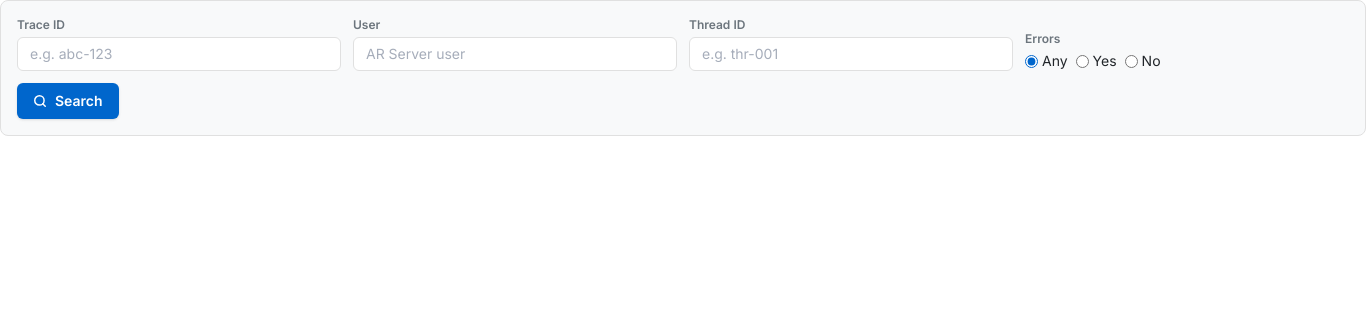
Scenario: TraceSearch › renders a result row for each transaction
Click the button "Search": (68, 101) [17,83,118,119]
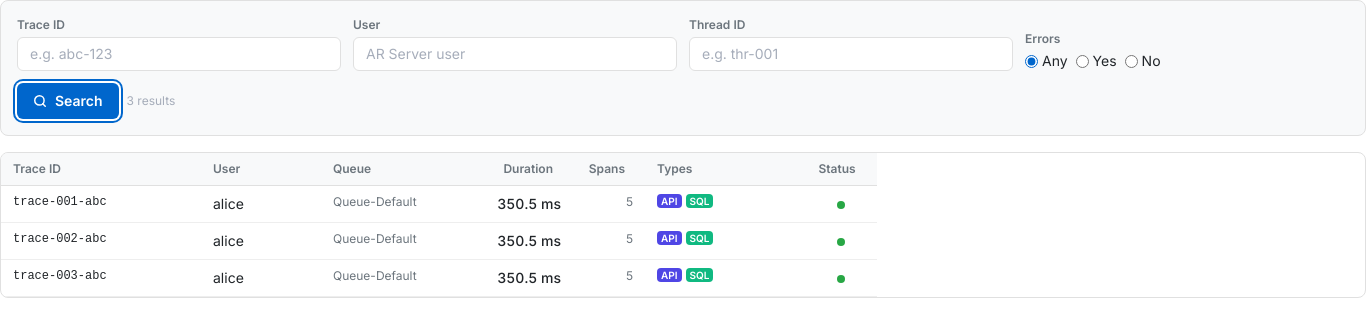
Expected: the number of rows is 4, [1,153,877,186]; [1,186,877,222]; [1,222,877,260]; [1,260,877,296]
